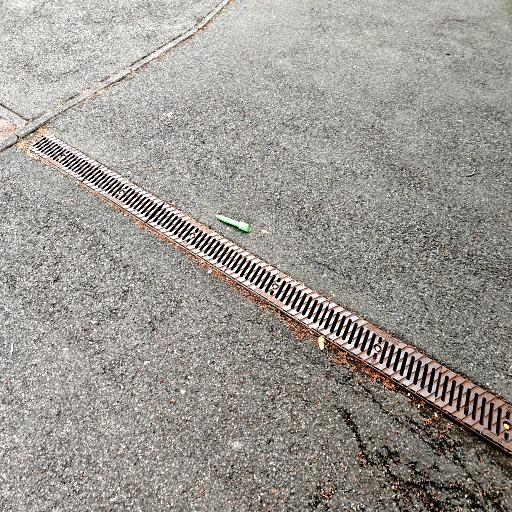Probe-Detection: (216, 215, 249, 232)
